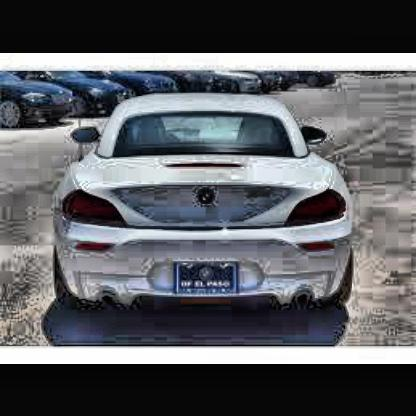BMW Z4 Convertible 2012: (54, 95, 355, 318)
